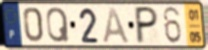0: (22, 6, 46, 44)
2: (76, 5, 101, 45)
6: (162, 5, 183, 46)
A: (101, 5, 132, 45)
P: (135, 5, 160, 45)
Q: (45, 6, 71, 45)
